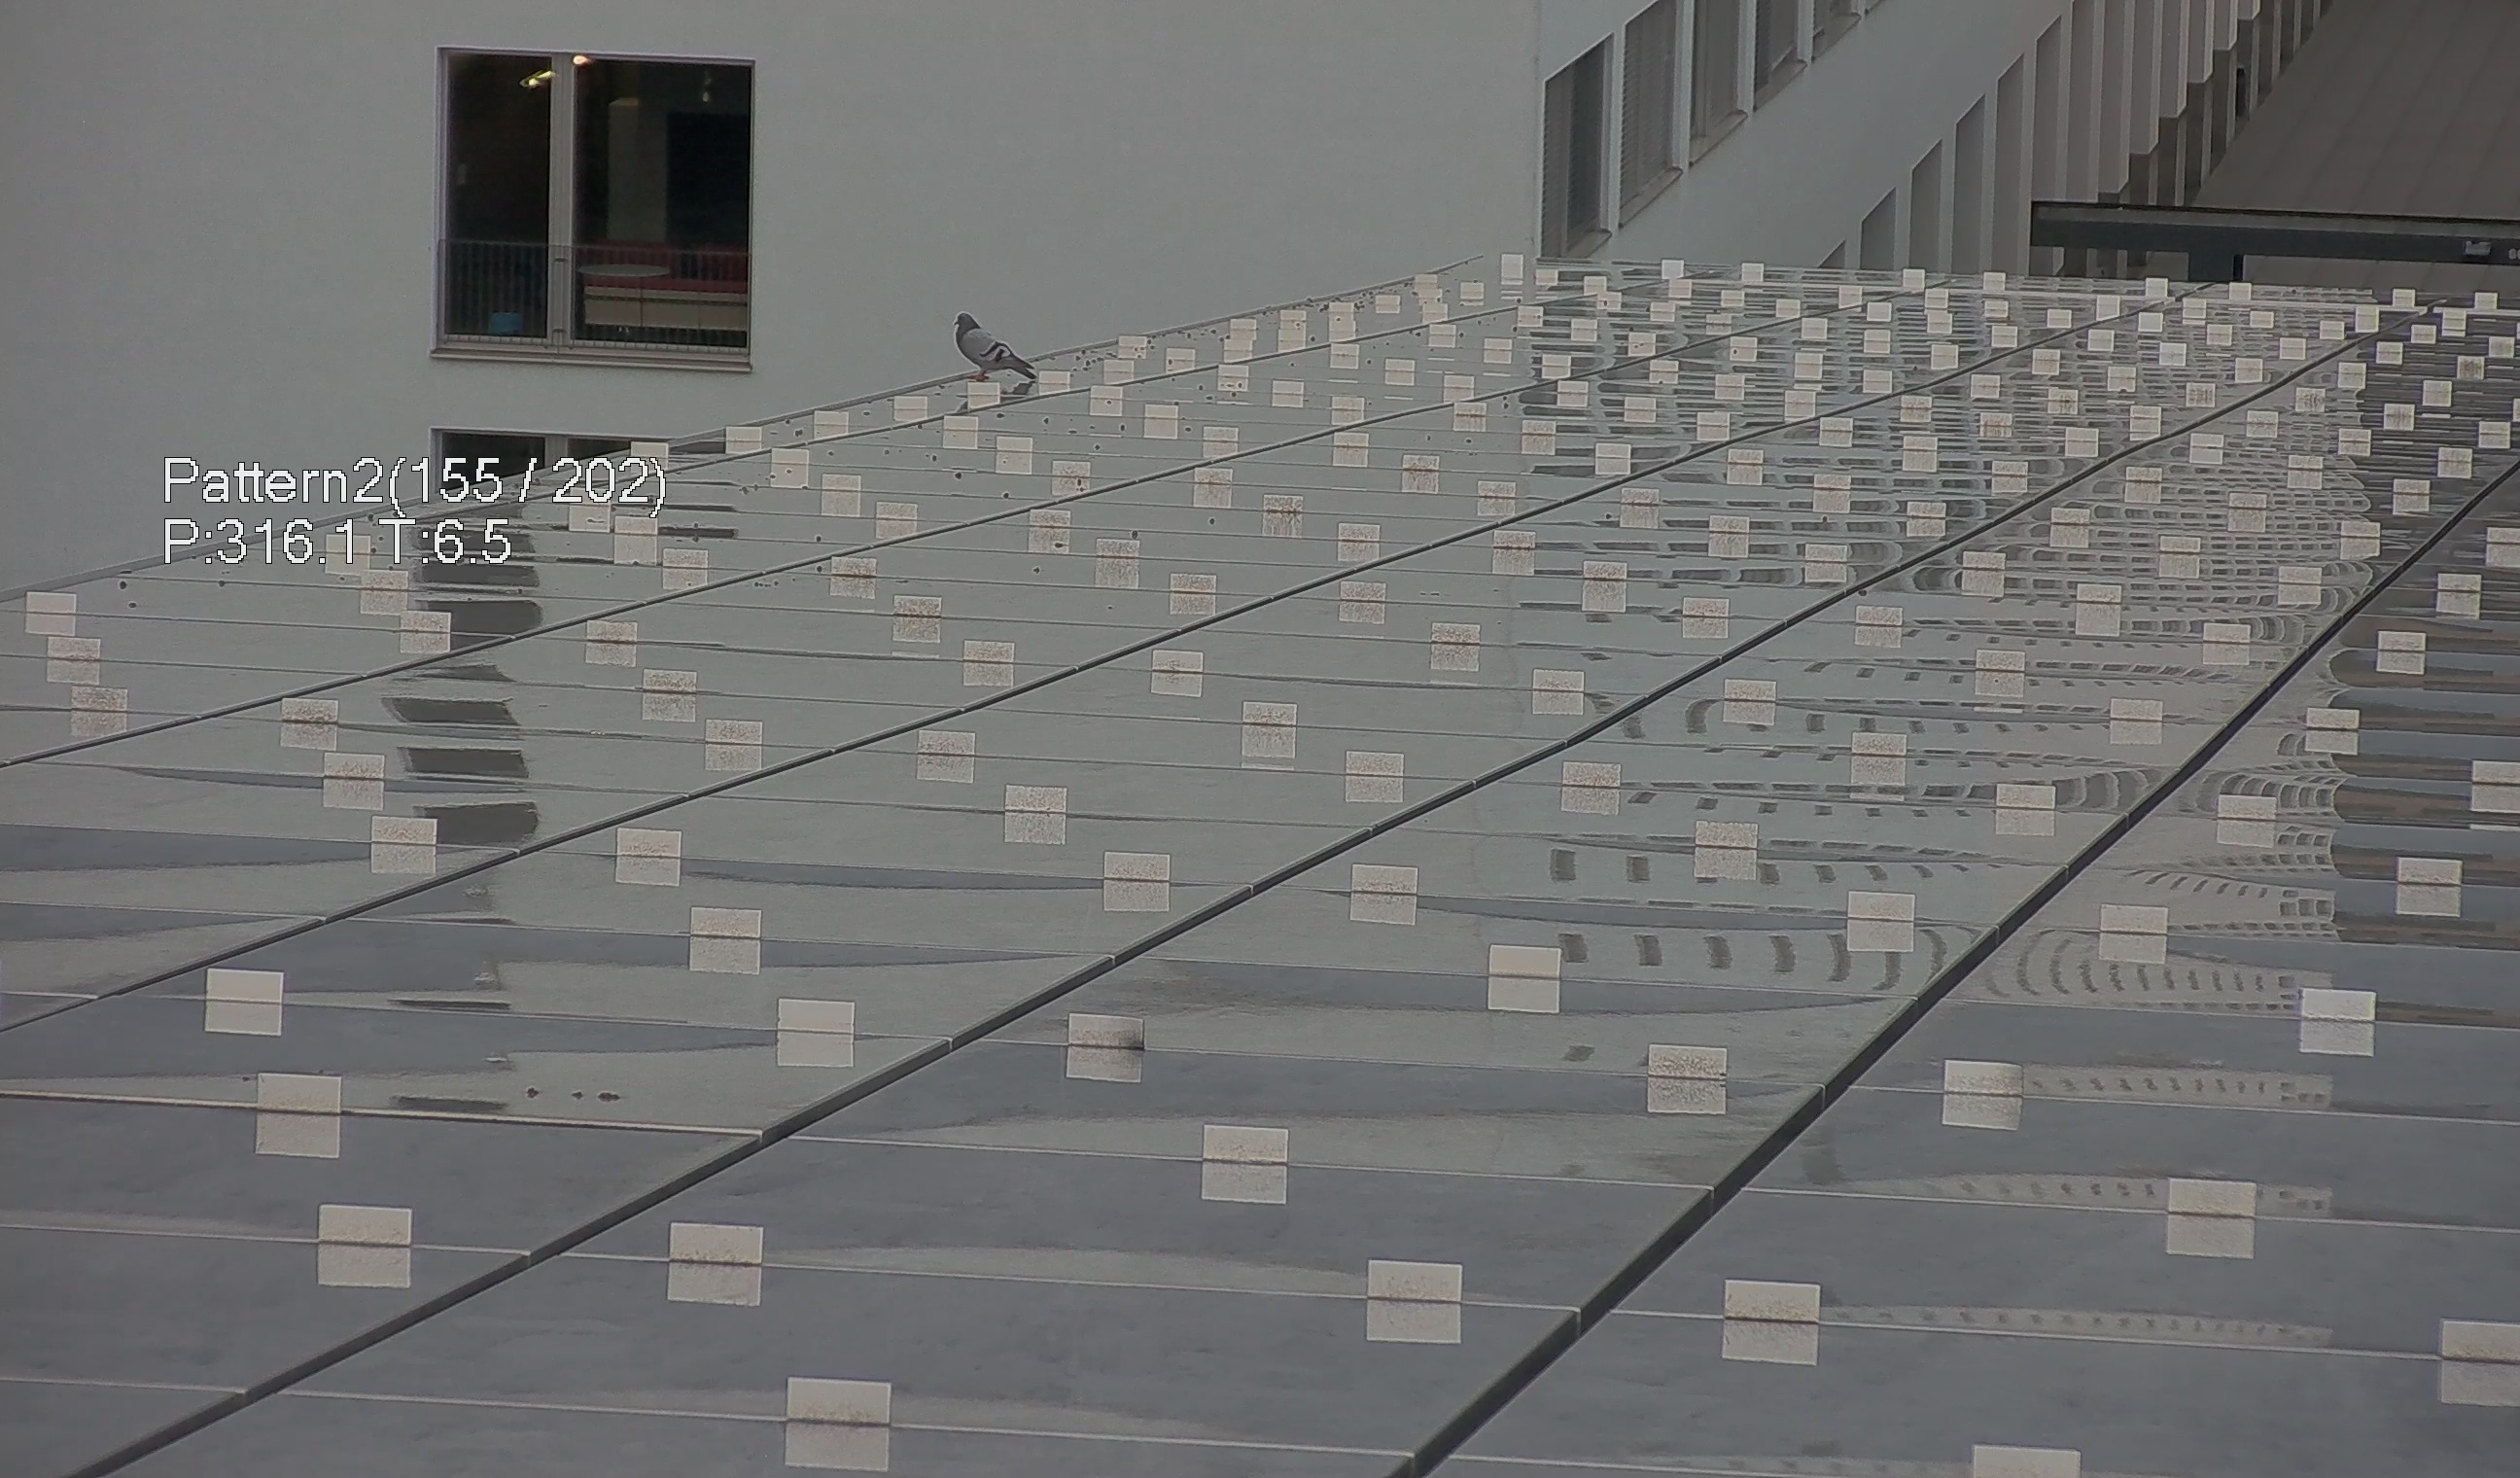Pigeon: (941, 296, 1046, 398)
